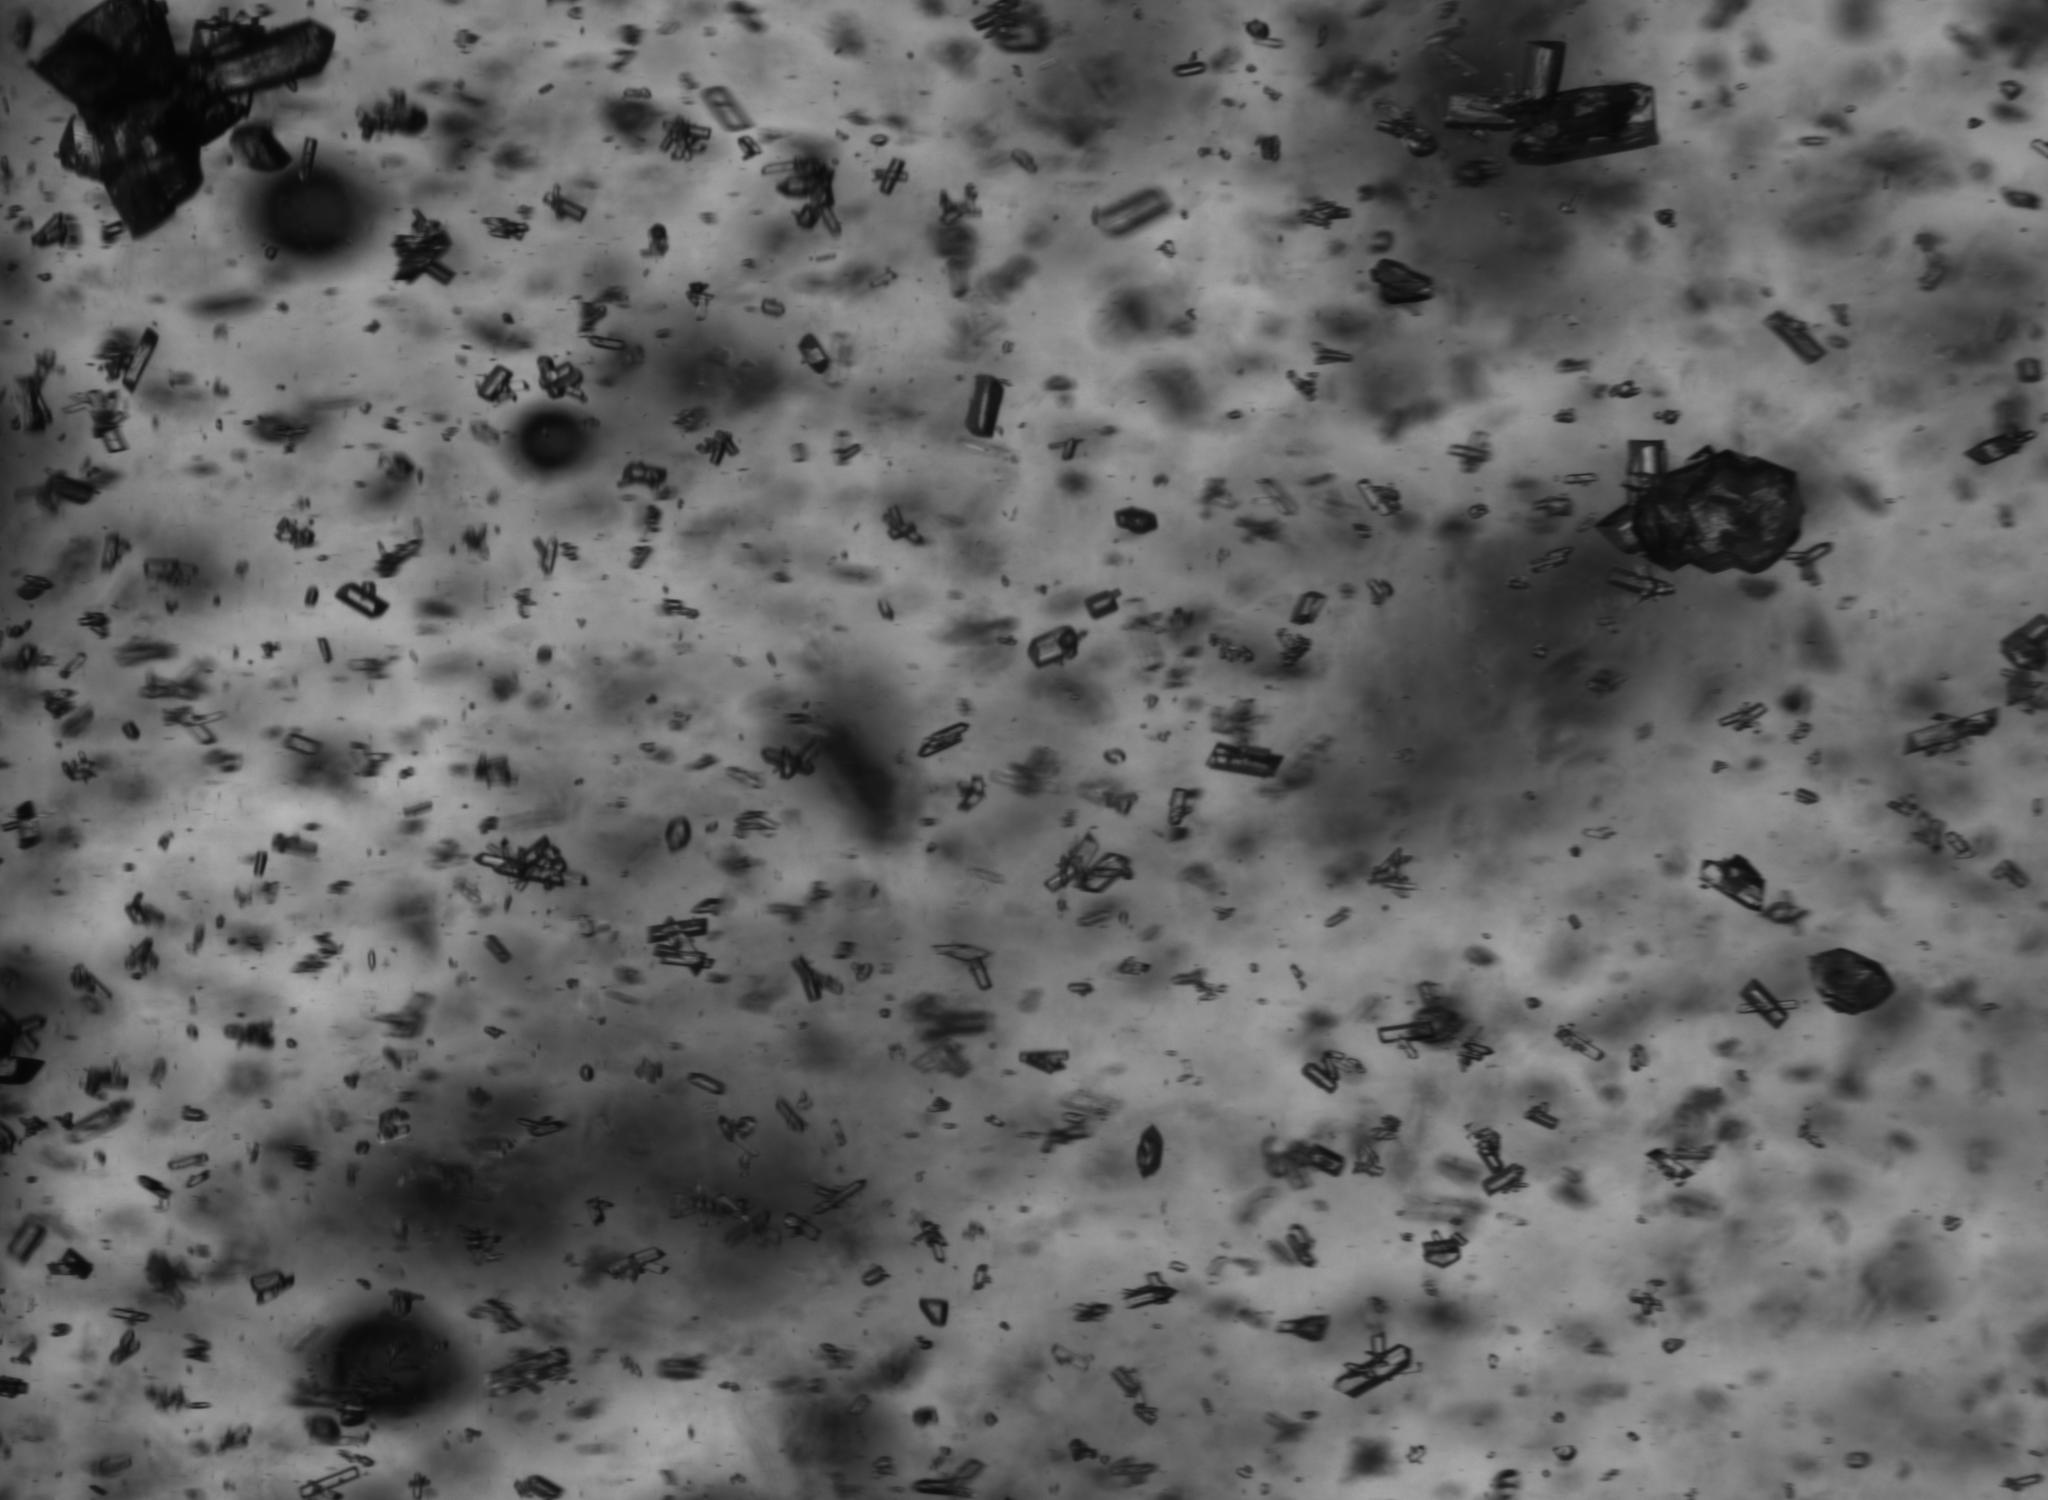bubble: (320, 1311, 460, 1417), (258, 161, 364, 259), (515, 404, 596, 474)
crystal: (33, 0, 334, 235), (1441, 40, 1660, 167), (1596, 441, 1805, 574), (474, 835, 590, 891), (760, 156, 840, 235), (1334, 1331, 1423, 1398), (1809, 948, 1895, 1015), (482, 1344, 569, 1401), (391, 210, 455, 285), (1902, 708, 1997, 757), (1088, 186, 1172, 237), (644, 916, 716, 975), (1697, 854, 1765, 911), (1760, 310, 1827, 364), (1045, 830, 1097, 892), (1369, 259, 1436, 305), (232, 122, 293, 173), (1736, 978, 1798, 1028), (81, 390, 129, 453), (1204, 741, 1283, 779), (1999, 611, 2046, 673), (913, 1459, 984, 1498), (964, 374, 1003, 439), (1024, 624, 1080, 670), (599, 1245, 671, 1280), (698, 86, 752, 132), (121, 328, 159, 391), (169, 705, 226, 746), (658, 115, 709, 161), (1369, 846, 1415, 897), (1781, 541, 1833, 585), (1078, 851, 1131, 894), (1123, 1271, 1180, 1309), (11, 372, 46, 434), (809, 1177, 865, 1215), (299, 1465, 359, 1500), (537, 356, 585, 399), (1606, 568, 1678, 597), (1962, 433, 2023, 466), (5, 1220, 49, 1265), (336, 582, 390, 619), (38, 474, 97, 506), (917, 722, 968, 759), (1552, 1028, 1604, 1063), (248, 1269, 296, 1308), (43, 1247, 94, 1282), (1356, 479, 1402, 517), (886, 503, 925, 546), (1464, 1128, 1503, 1172), (1422, 1230, 1466, 1268), (14, 800, 46, 853), (1646, 1148, 1695, 1182), (378, 539, 421, 577), (1135, 1123, 1164, 1180), (475, 364, 517, 402), (544, 185, 587, 221), (790, 954, 822, 1004), (1480, 1163, 1526, 1196), (1111, 504, 1159, 536), (68, 962, 111, 997), (1716, 701, 1768, 730), (1275, 1314, 1329, 1341), (30, 212, 70, 248), (913, 1220, 948, 1261), (1374, 1020, 1434, 1043), (2, 1055, 46, 1086), (1290, 590, 1328, 627), (1526, 546, 1573, 576), (1305, 1142, 1345, 1177), (798, 332, 830, 374), (1018, 1050, 1069, 1075), (873, 157, 908, 194), (108, 1328, 142, 1366), (145, 558, 197, 582), (781, 1212, 822, 1242), (1049, 1344, 1091, 1374), (517, 1473, 563, 1500), (1283, 1225, 1312, 1268), (277, 517, 315, 549), (619, 461, 666, 487), (1083, 589, 1121, 620), (124, 937, 159, 970), (375, 1107, 409, 1142), (701, 431, 736, 464), (1110, 1365, 1143, 1400), (687, 280, 714, 320), (1301, 1061, 1334, 1093), (773, 1098, 803, 1133), (970, 6, 1011, 32), (932, 943, 991, 961), (482, 216, 528, 239), (14, 574, 54, 600), (350, 741, 378, 776), (688, 1072, 728, 1096), (957, 776, 984, 811), (666, 818, 692, 854), (1522, 1106, 1558, 1131), (285, 733, 323, 757), (1444, 444, 1491, 463), (299, 137, 318, 183), (725, 767, 762, 791), (483, 935, 514, 964), (1167, 787, 1188, 829), (140, 1174, 173, 1199), (968, 956, 994, 989), (99, 531, 119, 571), (165, 1152, 208, 1171), (919, 1298, 948, 1327), (59, 652, 87, 679), (78, 612, 108, 638), (1765, 902, 1805, 921), (108, 1306, 151, 1323), (526, 1120, 569, 1137), (646, 223, 668, 256), (124, 900, 153, 926), (736, 132, 762, 161), (542, 531, 560, 573), (1307, 204, 1348, 221), (2016, 356, 2040, 387), (1372, 119, 1409, 138), (844, 1393, 873, 1417), (1108, 1462, 1156, 1476), (584, 1196, 604, 1228), (1367, 579, 1393, 604), (938, 202, 964, 227), (100, 220, 127, 243), (860, 1265, 889, 1287), (1945, 830, 1970, 854), (690, 896, 727, 911), (1118, 956, 1148, 975), (587, 336, 626, 350), (1172, 62, 1207, 78), (663, 600, 698, 616), (1612, 380, 1641, 399), (1132, 1403, 1156, 1425), (1076, 1304, 1110, 1320), (21, 1117, 46, 1137), (0, 1123, 16, 1155), (1323, 1050, 1339, 1082), (1313, 350, 1353, 363), (251, 849, 269, 878), (1350, 1161, 1385, 1176), (735, 1115, 758, 1136), (1245, 19, 1269, 40), (1547, 498, 1571, 519), (315, 638, 332, 665), (836, 444, 862, 461), (1794, 787, 1819, 805), (779, 748, 793, 778), (972, 1265, 987, 1292), (1550, 1444, 1577, 1460), (121, 721, 142, 741), (760, 299, 784, 317), (833, 940, 857, 958), (1652, 409, 1678, 425), (181, 1106, 208, 1120), (1464, 1042, 1495, 1055), (188, 1172, 211, 1188), (1062, 436, 1078, 460), (1565, 474, 1598, 485), (855, 962, 873, 983), (1663, 1336, 1684, 1354), (1468, 503, 1488, 520), (351, 659, 383, 670), (878, 600, 894, 622), (579, 1063, 595, 1083), (1061, 1112, 1086, 1125), (1104, 749, 1126, 764), (1654, 208, 1673, 224), (1167, 1260, 1188, 1274), (413, 1471, 423, 1500), (623, 87, 652, 97), (305, 587, 318, 608), (984, 1115, 1005, 1128), (870, 134, 887, 148), (1067, 983, 1092, 993), (1161, 242, 1175, 255), (367, 950, 375, 972)
